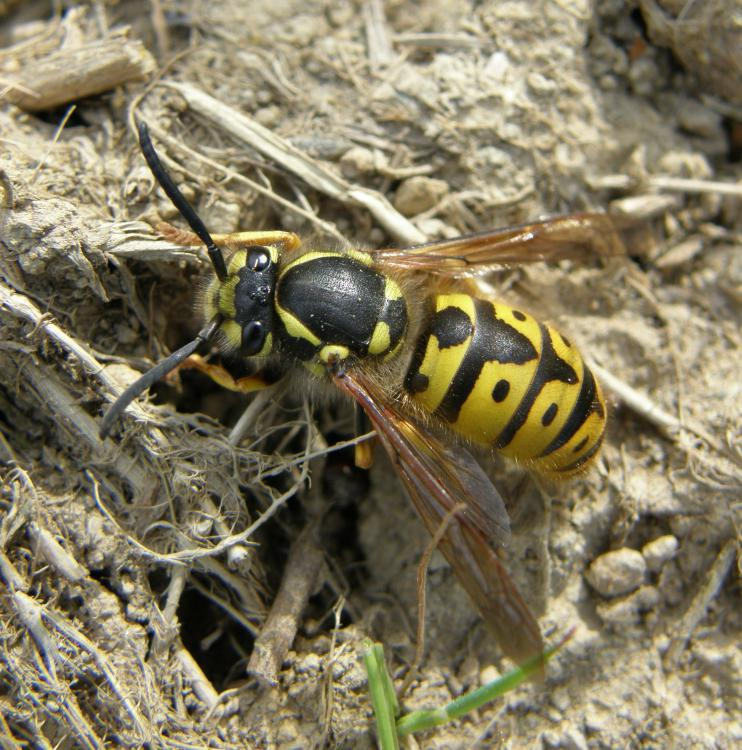chax: (62, 101, 696, 658)
